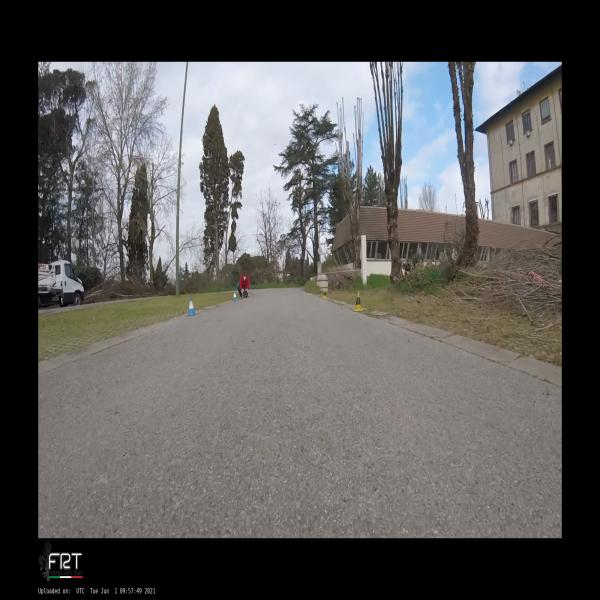blue_cone: (186, 296, 197, 316), (232, 291, 238, 301)
yellow_cone: (353, 291, 363, 312), (322, 288, 326, 300)
